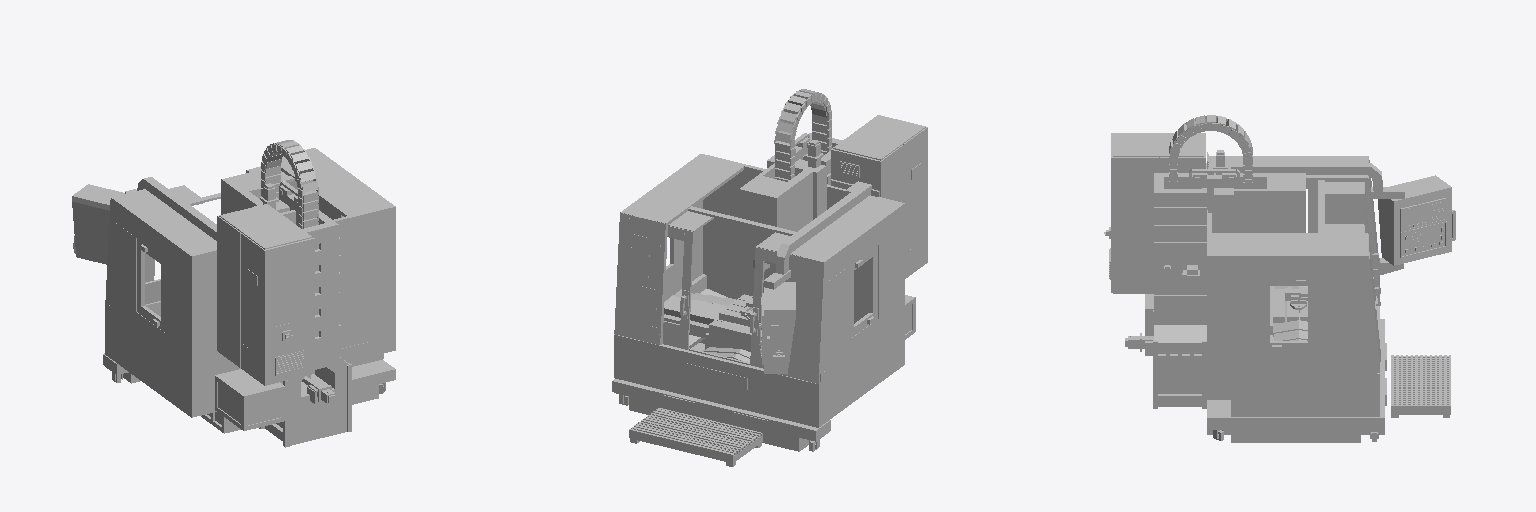
Rendered from cnc.obj.
The picture shows the model from 3 angles: view 1: azimuth 30°, elevation 25°; view 2: azimuth 150°, elevation 25°; view 3: azimuth 270°, elevation 25°; orthographic projection.
Parts seen in each view (by area): view 1: cube; view 2: cube; view 3: cube.
Boxes of the visible parts, <box> form: cube: <box>72,140,395,447</box>; cube: <box>612,89,927,466</box>; cube: <box>1104,115,1455,442</box>.
Size of the model in its own units: 3.18 by 3.92 by 4.56.